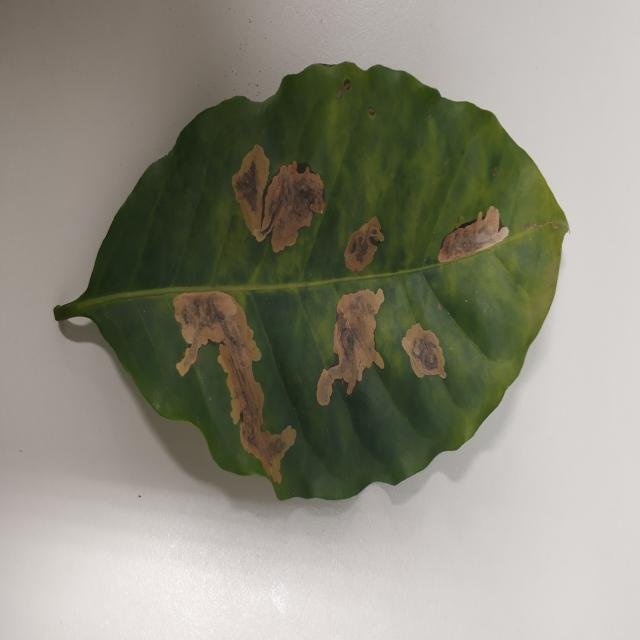Plaga-Minador: (52, 62, 570, 504)
